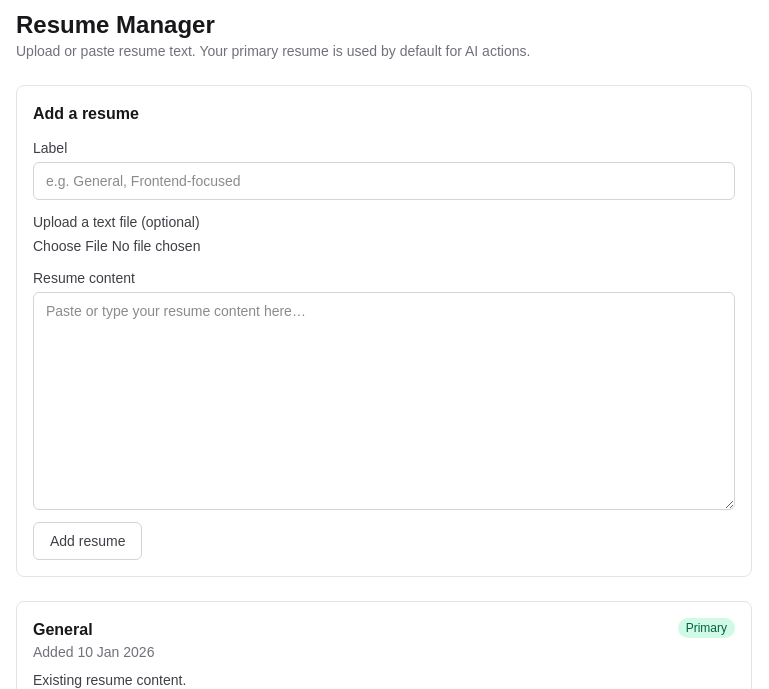
it: ResumeManagerScreen › adds a resume and shows it immediately without a full re-fetch
Expected: the heading "General" is shown, [33,621,93,638]
Type "Frontend" into the field labelled "Label" at (384, 181), box [33,162,735,200]
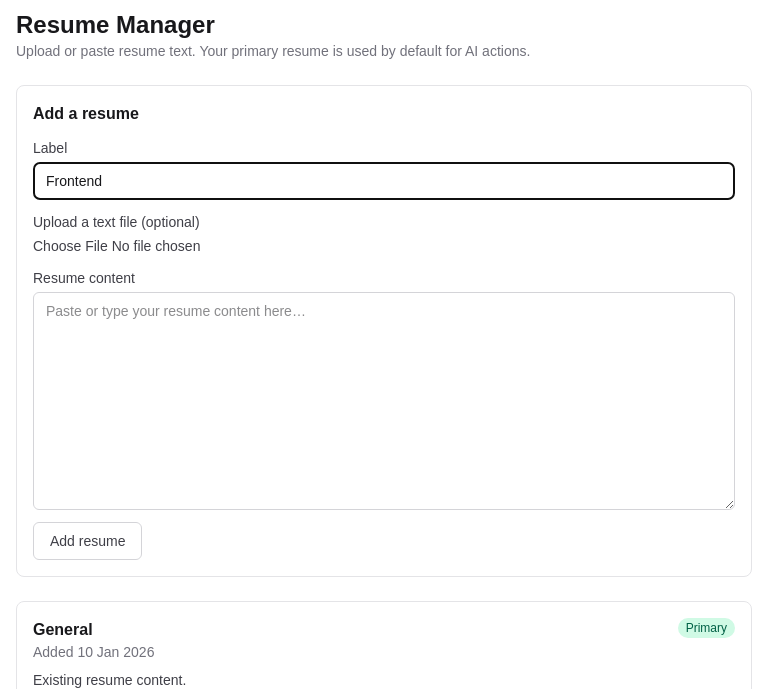
Type "New resume content" into the text box labelled "Resume content" at (384, 401), box [33,292,735,510]
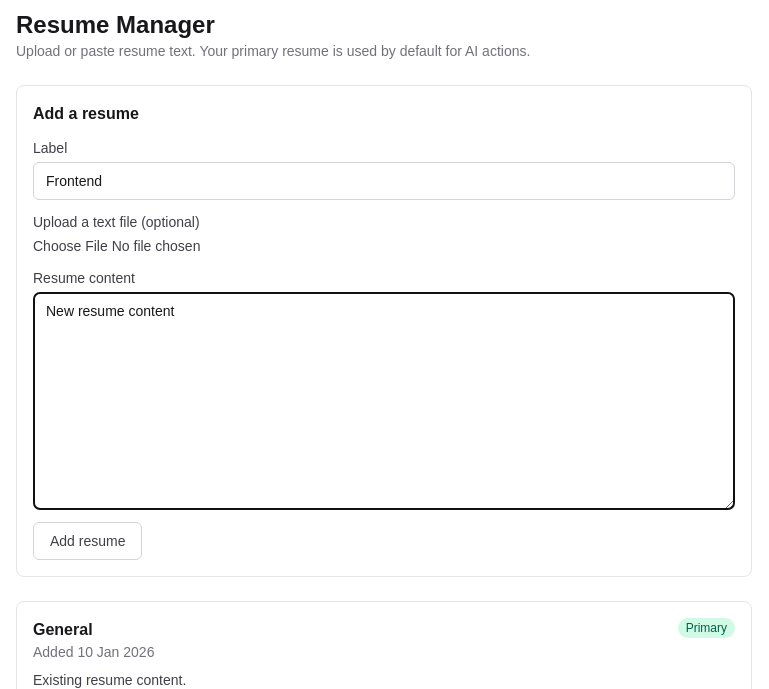
Click the button "Add resume" at (88, 541), box [33,522,142,560]
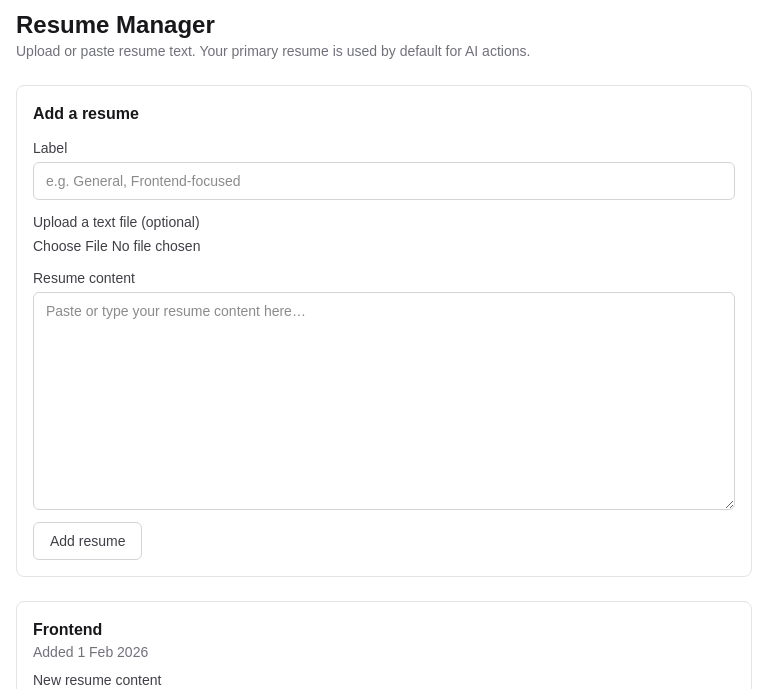
Expected: the heading "Frontend" is shown, [33,621,102,638]
